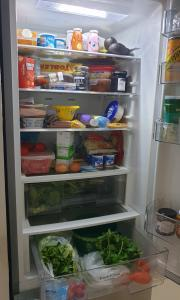Aguacate: (108, 42, 130, 56)
Huevos: (70, 159, 81, 172), (55, 163, 68, 173)
Leche: (56, 130, 74, 167)
Lechuga/Endivia: (38, 236, 78, 276)
Tomate: (132, 270, 154, 286), (34, 144, 46, 153), (19, 148, 29, 158)
Yogur: (38, 30, 58, 54), (94, 153, 106, 168), (106, 154, 118, 168)
